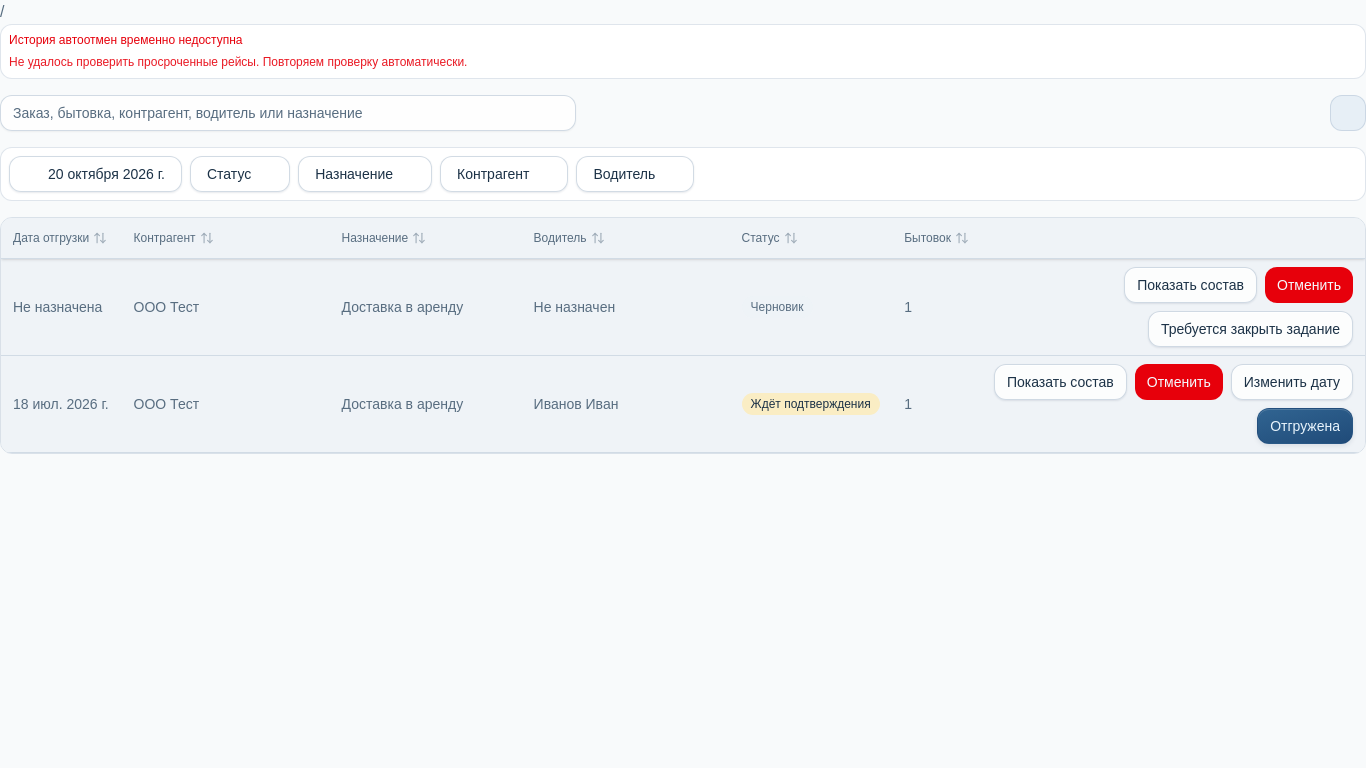
Test: LogisticsShipmentsPage › shows empty current contents, saved desired contents, and linked task lines for the cabin
The width and height of the screenshot is (1366, 768).
Click the button "Показать состав" in the row of "Не назначена": coordinates (1191, 285) left=1124, top=267, right=1257, bottom=303
(page scrolled)
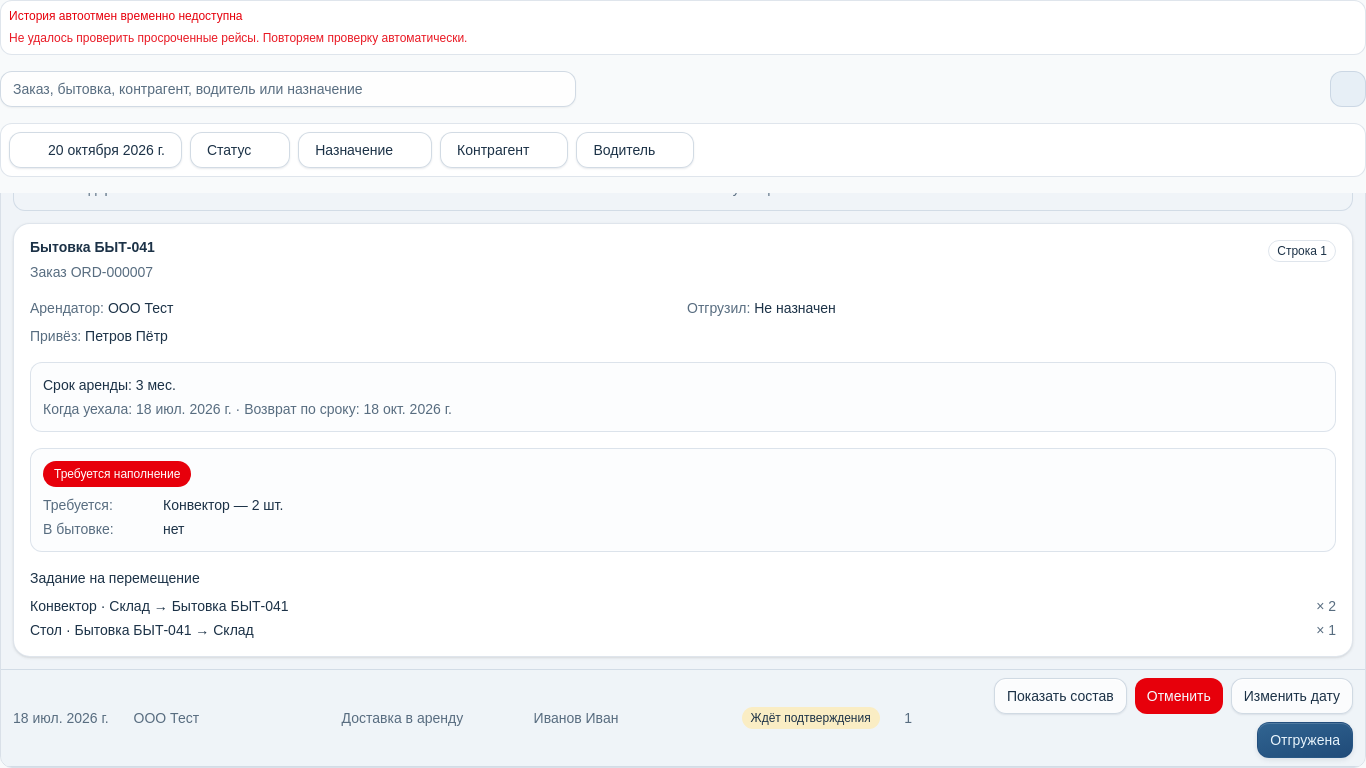
Expected: the text "Требуется наполнение" is shown, left=43, top=461, right=191, bottom=487
Expected: the text "Требуется:" is shown, left=43, top=497, right=113, bottom=513
Expected: the text "В бытовке:" is shown, left=43, top=521, right=114, bottom=537
